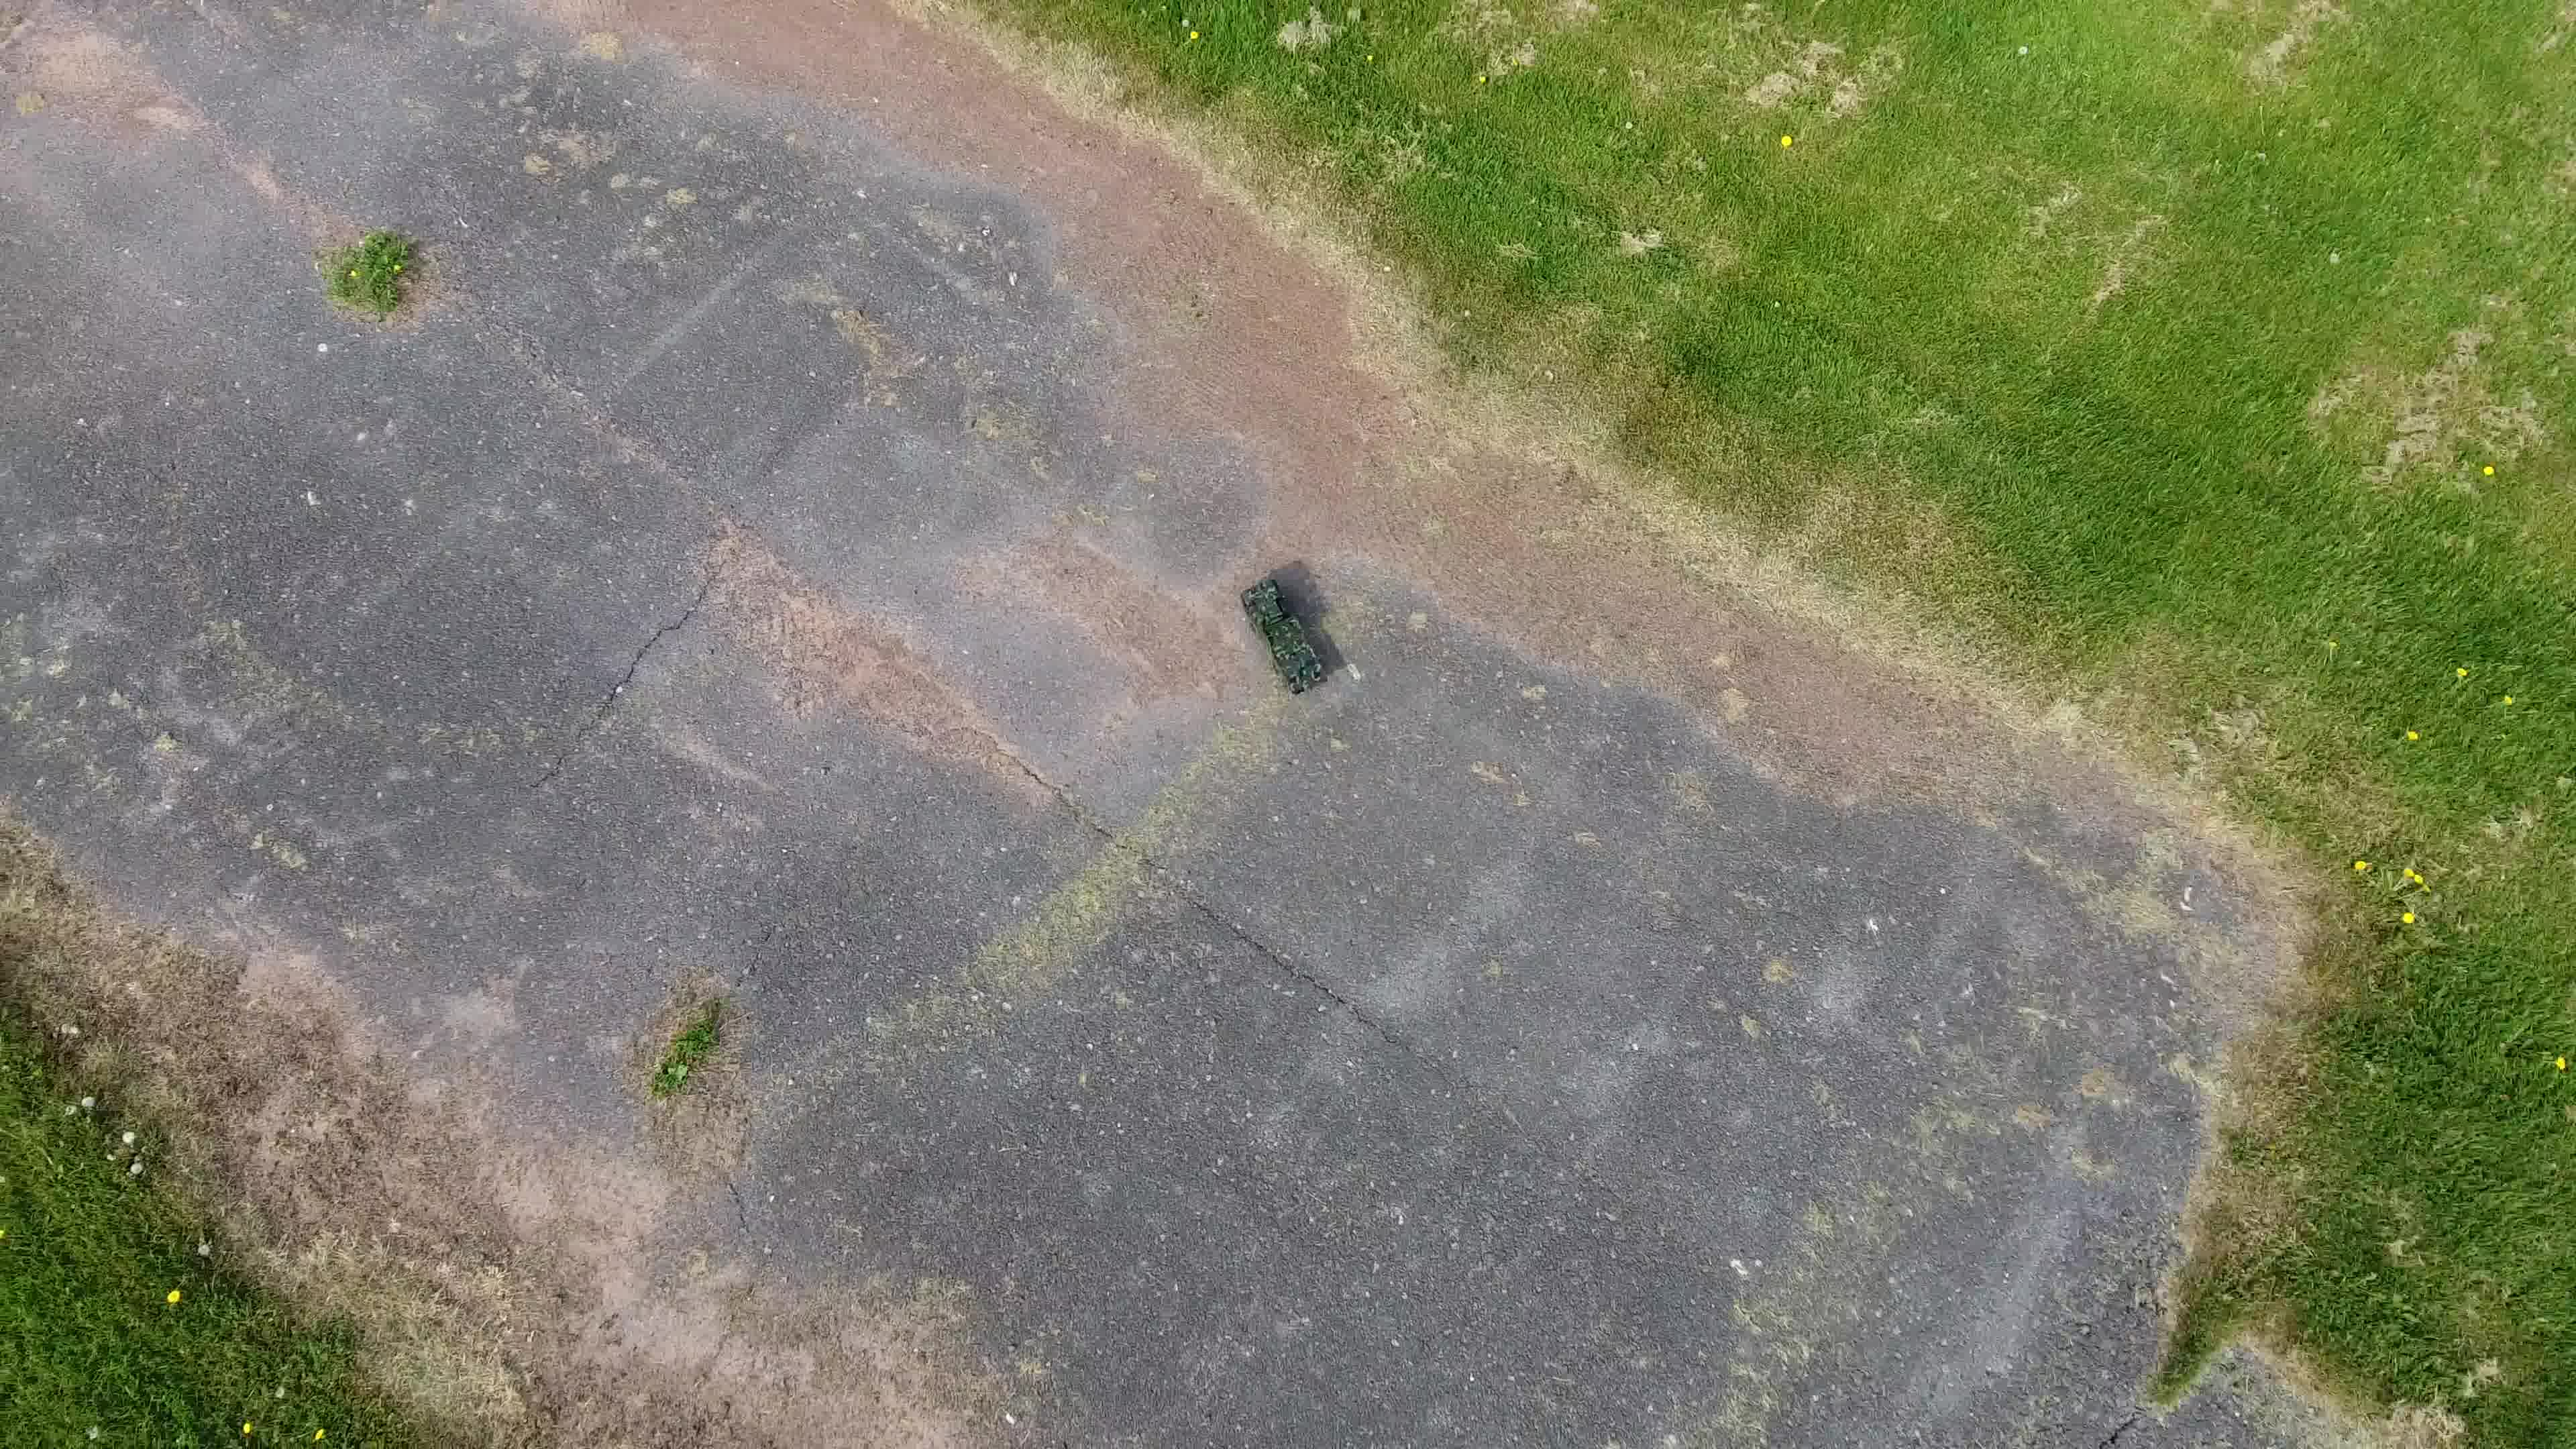transporter9_camo: (1235, 575, 1334, 699)
